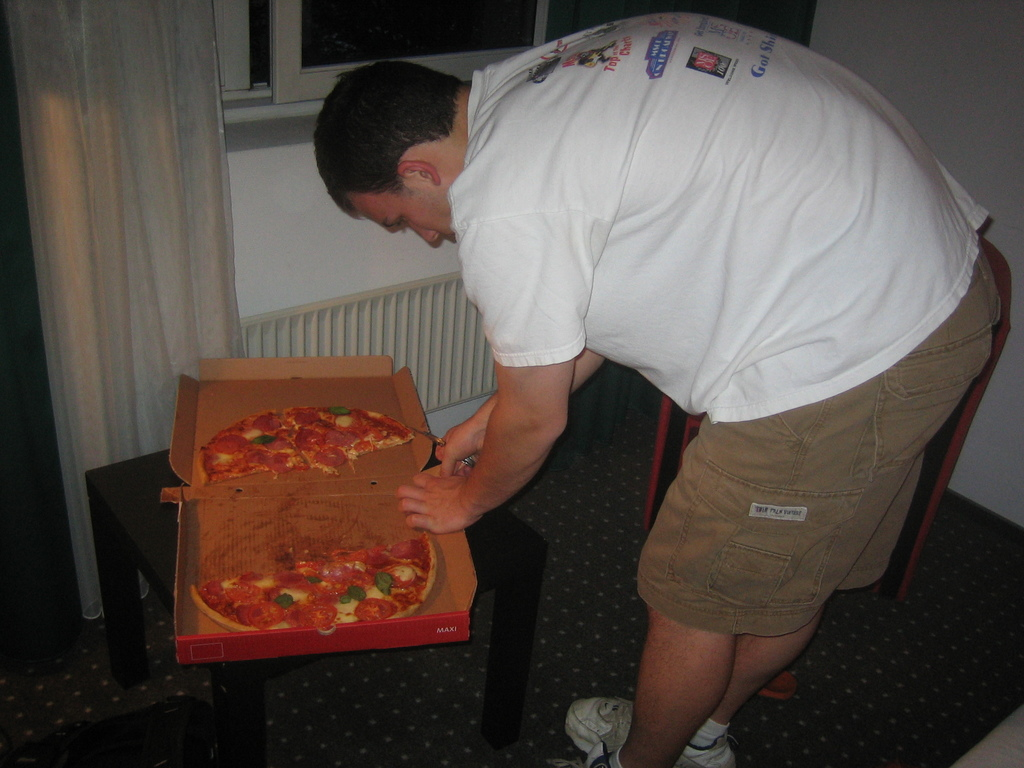Pizza: (160, 404, 440, 674)
